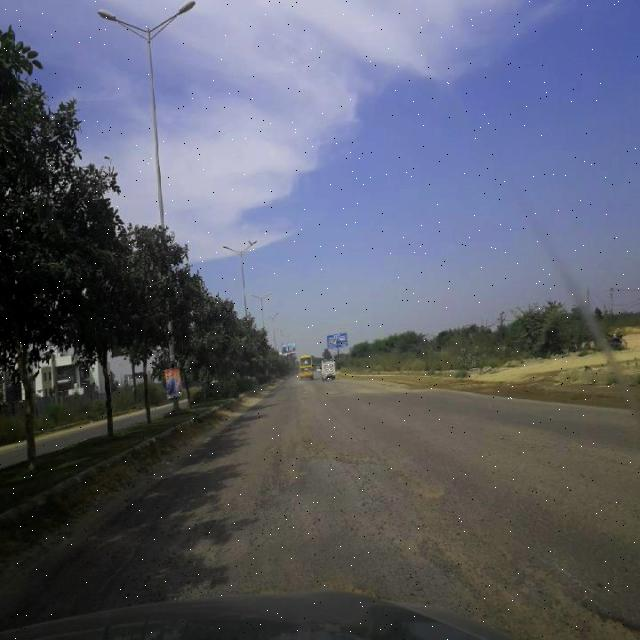D40: (464, 555, 640, 639), (208, 418, 331, 532), (143, 558, 415, 596), (338, 431, 429, 494)
